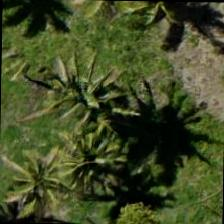Kelapa_Sawit: (14, 44, 106, 136), (34, 110, 126, 202), (0, 171, 90, 223)
